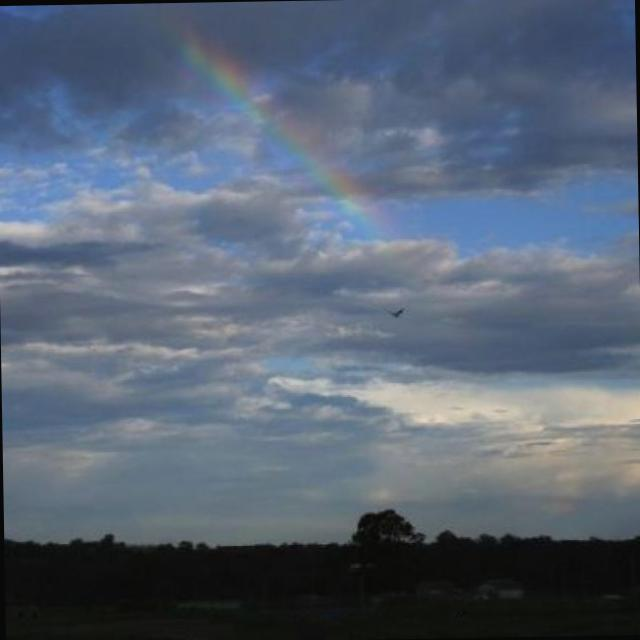altocumulus: (0, 152, 640, 388), (2, 378, 640, 502)
